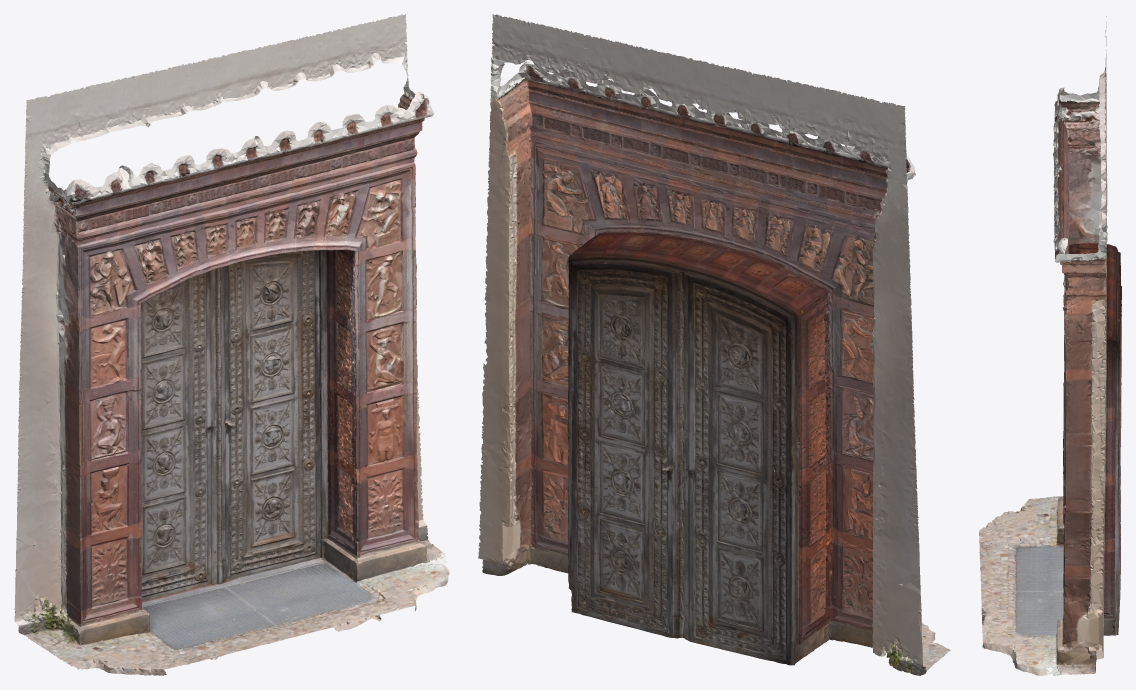
3 renders of one model, left to right at view 1: azimuth 30°, elevation 25°; view 2: azimuth 150°, elevation 25°; view 3: azimuth 270°, elevation 25°, orthographic. The views are drawn at different scales.
Parts seen in each view (by area): view 1: 1k.25k; view 2: 1k.25k; view 3: 1k.25k.
Part boxes in pixels (x1,y1,x2,y2): 1k.25k: (14, 14, 449, 675); 1k.25k: (478, 14, 950, 675); 1k.25k: (979, 16, 1121, 675).
Size of the model in its own units: 3.12 by 3.93 by 1.03.
Materials: 1 (1 with a texture image).
